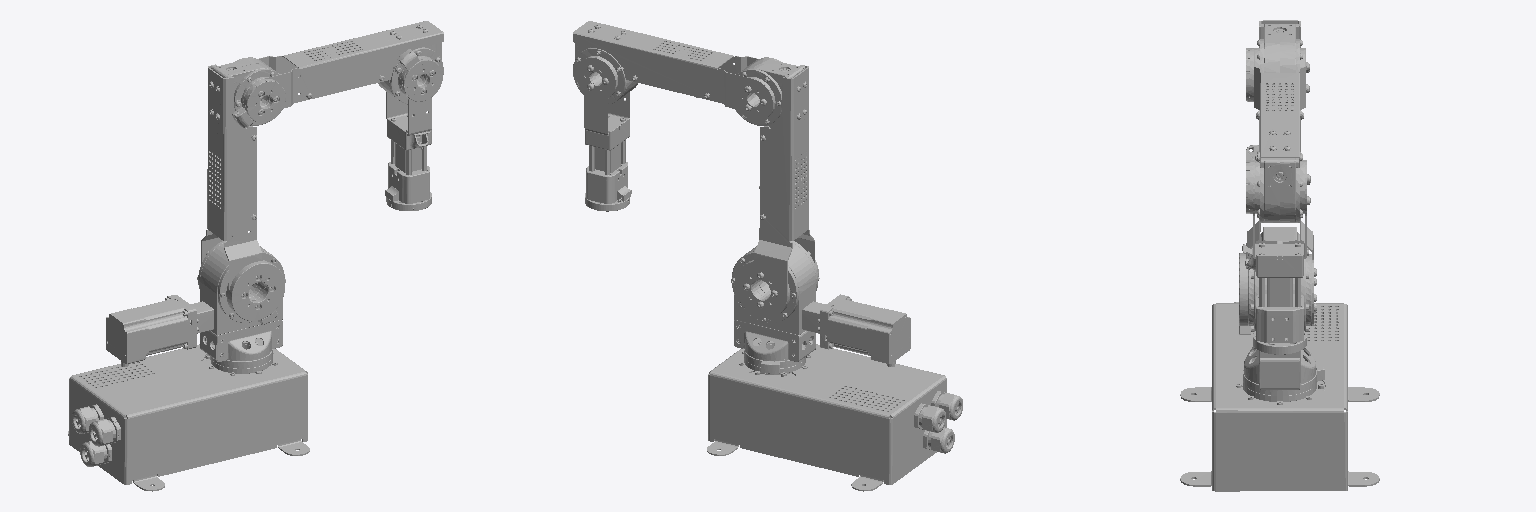
The robot description file, URDF, robot "igus":
<robot
  name="igus">
  <link 
    name="world"/>
  <link
    name="base_link">
    <inertial>
      <origin
        xyz="-0.11799 0.01077 0.068117"
        rpy="0 0 0" />
      <mass
        value="1.1923" />
      <inertia
        ixx="0.00070195"
        ixy="0.00010761"
        ixz="-0.00040672"
        iyy="0.0060428"
        iyz="1.5596E-05"
        izz="0.0061724" />
    </inertial>
    <visual>
      <origin
        xyz="0 0 0"
        rpy="0 0 0" />
      <geometry>
        <mesh
          filename="package://igus_description/meshes/base_link.stl" />
      </geometry>
      <material
        name="">
        <color
          rgba="0.75294 0.75294 0.75294 1" />
      </material>
    </visual>
    <collision>
      <origin
        xyz="0 0 0"
        rpy="0 0 0" />
      <geometry>
        <mesh
          filename="package://igus_description/meshes/collision/base_link.stl" />
      </geometry>
    </collision>
  </link>
  <joint 
    name="base_joint" 
    type="fixed">
    <origin 
      xyz="0 0 0" 
      rpy="0 0 0"/>
    <parent 
      link="world"/>
    <child 
      link="base_link"/>
  </joint>
  <link
    name="l1">
    <inertial>
      <origin
        xyz="-0.035381 -0.002031 0.089515"
        rpy="0 0 0" />
      <mass
        value="0.90556" />
      <inertia
        ixx="0.00062161"
        ixy="6.6975E-05"
        ixz="-0.00063113"
        iyy="0.0033858"
        iyz="3.2883E-05"
        izz="0.0031835" />
    </inertial>
    <visual>
      <origin
        xyz="0 0 0"
        rpy="0 0 0" />
      <geometry>
        <mesh
          filename="package://igus_description/meshes/l1.stl" />
      </geometry>
      <material
        name="">
        <color
          rgba="0.75294 0.75294 0.75294 1" />
      </material>
    </visual>
    <collision>
      <origin
        xyz="0 0 0"
        rpy="0 0 0" />
      <geometry>
        <mesh
          filename="package://igus_description/meshes/collision/l1.stl" />
      </geometry>
    </collision>
  </link>
  <joint
    name="j1"
    type="continuous">
    <origin
      xyz="-0.06 0 0.1075"
      rpy="0 0 0" />
    <parent
      link="base_link" />
    <child
      link="l1" />
    <axis
      xyz="0 0 1" />
    <limit
      lower="0"
      upper="0"
      effort="0"
      velocity="0.41866" />
    <dynamics
      damping="1"
      friction="1" />
  </joint>
  <link
    name="l2">
    <inertial>
      <origin
        xyz="-0.0023766 0.21095 0.0013442"
        rpy="0 0 0" />
      <mass
        value="0.41357" />
      <inertia
        ixx="0.0018715"
        ixy="-0.00030861"
        ixz="-8.8617E-06"
        iyy="0.00017461"
        iyz="-3.2066E-05"
        izz="0.0019042" />
    </inertial>
    <visual>
      <origin
        xyz="0 0 0"
        rpy="0 0 0" />
      <geometry>
        <mesh
          filename="package://igus_description/meshes/l2.stl" />
      </geometry>
      <material
        name="">
        <color
          rgba="0.75294 0.75294 0.75294 1" />
      </material>
    </visual>
    <collision>
      <origin
        xyz="0 0 0"
        rpy="0 0 0" />
      <geometry>
        <mesh
          filename="package://igus_description/meshes/collision/l2.stl" />
      </geometry>
    </collision>
  </link>
  <joint
    name="j2"
    type="revolute">
    <origin
      xyz="0 0 0.1099"
      rpy="1.5708 1.0619E-14 9.3617E-15" />
    <parent
      link="l1" />
    <child
      link="l2" />
    <axis
      xyz="0 0 -1" />
    <limit
      lower="-1.2211"
      upper="1.9189"
      effort="0"
      velocity="0.41866" />
    <dynamics
      damping="1"
      friction="1" />
  </joint>
  <link
    name="l3">
    <inertial>
      <origin
        xyz="-0.0083736 -0.19467 0.0015264"
        rpy="0 0 0" />
      <mass
        value="0.36467" />
      <inertia
        ixx="0.0012053"
        ixy="-0.00023472"
        ixz="7.8773E-06"
        iyy="0.00016033"
        iyz="2.3891E-05"
        izz="0.0012297" />
    </inertial>
    <visual>
      <origin
        xyz="0 0 0"
        rpy="0 0 0" />
      <geometry>
        <mesh
          filename="package://igus_description/meshes/l3.stl" />
      </geometry>
      <material
        name="">
        <color
          rgba="0.75294 0.75294 0.75294 1" />
      </material>
    </visual>
    <collision>
      <origin
        xyz="0 0 0"
        rpy="0 0 0" />
      <geometry>
        <mesh
          filename="package://igus_description/meshes/collision/l3.stl" />
      </geometry>
    </collision>
  </link>
  <joint
    name="j3"
    type="revolute">
    <origin
      xyz="0.016 0.26953 0"
      rpy="-4.5612E-15 -1.1985E-14 1.5708" />
    <parent
      link="l2" />
    <child
      link="l3" />
    <axis
      xyz="0 0 -1" />
    <limit
      lower="-1.7444"
      upper="0.95944"
      effort="0"
      velocity="0.52333" />
    <dynamics
      damping="1"
      friction="1" />
  </joint>
  <link
    name="l4">
    <inertial>
      <origin
        xyz="9.7148E-05 -0.12669 1.5638E-05"
        rpy="0 0 0" />
      <mass
        value="0.20247" />
      <inertia
        ixx="0.00046894"
        ixy="-2.1755E-07"
        ixz="-4.3689E-09"
        iyy="1.2285E-05"
        iyz="4.0423E-07"
        izz="0.00046579" />
    </inertial>
    <visual>
      <origin
        xyz="0 0 0"
        rpy="0 0 0" />
      <geometry>
        <mesh
          filename="package://igus_description/meshes/l4.stl" />
      </geometry>
      <material
        name="">
        <color
          rgba="0.75294 0.75294 0.75294 1" />
      </material>
    </visual>
    <collision>
      <origin
        xyz="0 0 0"
        rpy="0 0 0" />
      <geometry>
        <mesh
          filename="package://igus_description/meshes/collision/l4.stl" />
      </geometry>
    </collision>
  </link>
  <joint
    name="j4"
    type="revolute">
    <origin
      xyz="-0.025 -0.23869 0"
      rpy="-1.1985E-14 -8.1158E-15 -1.5708" />
    <parent
      link="l3" />
    <child
      link="l4" />
    <axis
      xyz="0 0 -1" />
    <limit
      lower="-1.8317"
      upper="0.95944"
      effort="0"
      velocity="0.52333" />
    <dynamics
      damping="1"
      friction="1" />
  </joint>
  <link 
    name="ee_link">
    <collision>
      <geometry>
        <box size="0.01 0.01 0.01"/>
      </geometry>
        <origin rpy="0 0 0" xyz="0 0 0"/>
      </collision>
    <inertial>
      <origin xyz="0 0 0" rpy="0 0 0" />
      <mass value="0.01" />
      <inertia
        ixx="0.01" ixy="0.01" ixz="0.01"
        iyy="0.01" iyz="0.01"
        izz="0.01" />
      </inertial>
  </link>
  <joint
    name="ee_joint"
    type="continuous">
    <origin
      xyz="0 -0.19035 0"
      rpy="1.5708 9.0657E-15 8.3279E-16" />
    <parent
      link="l4" />
    <child
      link="ee_link" />
    <axis
      xyz="0 0 1" />
    <limit
      lower="0"
      upper="0"
      effort="0"
      velocity="0.628" />
    <dynamics
      damping="1"
      friction="1" />
  </joint>
  <gazebo>
   <plugin name="ros_control" filename="libgazebo_ros_control.so">
     <alwaysOn>true</alwaysOn>
     <updateRate>1000.0</updateRate>
     #<legacyModeNS>true</legacyModeNS> #added by me.New settings required for new gazebo. But i decided to use old gazebo. So, commenting this part 
   </plugin>
  </gazebo>

  <gazebo reference="base_link">
   <turnGravityOff>true</turnGravityOff>   
  </gazebo>

  <gazebo reference="l1">
   <turnGravityOff>true</turnGravityOff>   
  </gazebo>
  
  <gazebo reference="l2">
   <turnGravityOff>true</turnGravityOff>   
  </gazebo>

  <gazebo reference="l3">
   <turnGravityOff>true</turnGravityOff>   
  </gazebo>
  
  <gazebo reference="l4">
   <turnGravityOff>true</turnGravityOff>   
  </gazebo>
  
  <gazebo reference="ee_link">
   <turnGravityOff>true</turnGravityOff>   
  </gazebo>

  <transmission name="tran1">
    <type>transmission_interface/SimpleTransmission</type>
    <joint name="j1">
      <hardwareInterface>hardware_interface/PositionJointInterface</hardwareInterface>
    </joint>
    <actuator name="motor1">
      <hardwareInterface>hardware_interface/PositionJointInterface</hardwareInterface>
      <mechanicalReduction>1</mechanicalReduction>
    </actuator>
  </transmission>

  <transmission name="tran2">
    <type>transmission_interface/SimpleTransmission</type>
    <joint name="j2">
      <hardwareInterface>hardware_interface/PositionJointInterface</hardwareInterface>
    </joint>
    <actuator name="motor2">
      <hardwareInterface>hardware_interface/PositionJointInterface</hardwareInterface>
      <mechanicalReduction>1</mechanicalReduction>
    </actuator>
  </transmission>

  <transmission name="tran3">
    <type>transmission_interface/SimpleTransmission</type>
    <joint name="j3">
      <hardwareInterface>hardware_interface/PositionJointInterface</hardwareInterface>
    </joint>
    <actuator name="motor3">
      <hardwareInterface>hardware_interface/PositionJointInterface</hardwareInterface>
      <mechanicalReduction>1</mechanicalReduction>
    </actuator>
  </transmission>

  <transmission name="tran4">
    <type>transmission_interface/SimpleTransmission</type>
    <joint name="j4">
      <hardwareInterface>hardware_interface/PositionJointInterface</hardwareInterface>
    </joint>
    <actuator name="motor4">
      <hardwareInterface>hardware_interface/PositionJointInterface</hardwareInterface>
      <mechanicalReduction>1</mechanicalReduction>
    </actuator>
  </transmission>

  <transmission name="tran5">
    <type>transmission_interface/SimpleTransmission</type>
    <joint name="ee_joint">
      <hardwareInterface>hardware_interface/PositionJointInterface</hardwareInterface>
    </joint>
    <actuator name="motor5">
      <hardwareInterface>hardware_interface/PositionJointInterface</hardwareInterface>
      <mechanicalReduction>1</mechanicalReduction>
    </actuator>
  </transmission>
</robot>

--- Render facts (derived) ---
Views: 3 orthographic renders of the robot side by side, from view 1: azimuth 30°, elevation 25°; view 2: azimuth 150°, elevation 25°; view 3: azimuth 270°, elevation 25°.
Model igus with 7 links and 6 joints (3 revolute, 2 continuous, 1 fixed), rooted at world, posed all joints at 0.
Visible links, largest first — view 1: base_link, l1, l2, l3, l4; view 2: base_link, l2, l1, l3, l4; view 3: base_link, l3, l4, l1, l2.
Link boxes in pixels (x1=…): base_link: x1=68, y1=344, x2=309, y2=491; l1: x1=106, y1=241, x2=285, y2=366; l2: x1=201, y1=57, x2=285, y2=307; l3: x1=243, y1=21, x2=443, y2=108; l4: x1=385, y1=57, x2=432, y2=210; base_link: x1=707, y1=341, x2=962, y2=491; l2: x1=735, y1=57, x2=814, y2=317; l1: x1=731, y1=241, x2=910, y2=366; l3: x1=573, y1=21, x2=772, y2=120; l4: x1=576, y1=57, x2=631, y2=211; base_link: x1=1180, y1=302, x2=1379, y2=491; l3: x1=1246, y1=48, x2=1309, y2=222; l4: x1=1242, y1=160, x2=1310, y2=354; l1: x1=1239, y1=227, x2=1315, y2=389; l2: x1=1246, y1=20, x2=1316, y2=325.
Size in the robot's own frame: 0.5462 by 0.2202 by 0.5269 metres.
Meshes: 5 distinct files referenced, 5 mesh visuals loaded (5 binary STL).